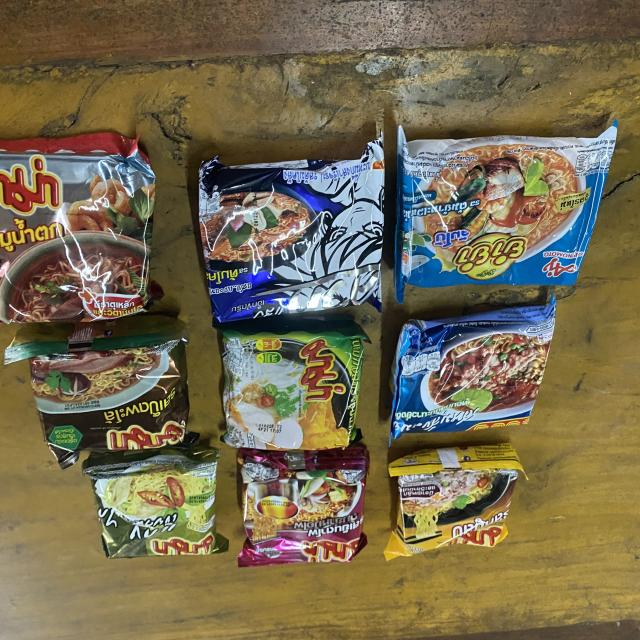plastik: (396, 122, 616, 301), (200, 138, 384, 322), (5, 314, 197, 469), (0, 134, 155, 323), (391, 298, 556, 439), (216, 316, 367, 450), (384, 443, 526, 561), (82, 446, 229, 558), (238, 445, 369, 567)
